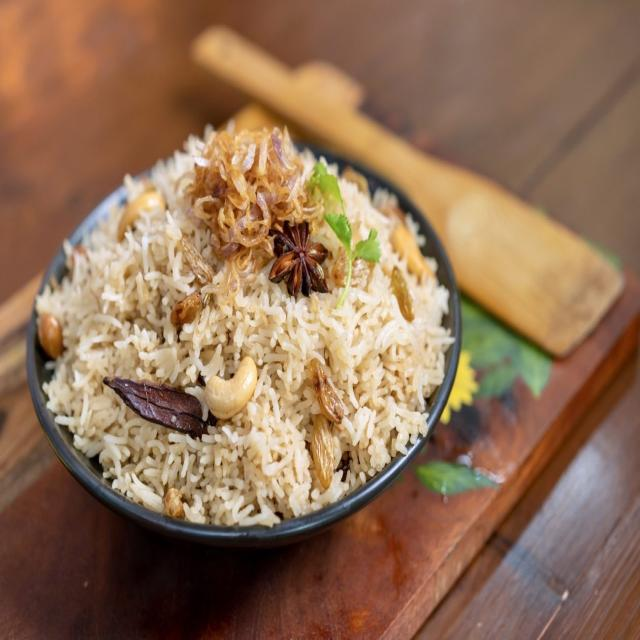nei satham: (25, 117, 457, 546)
